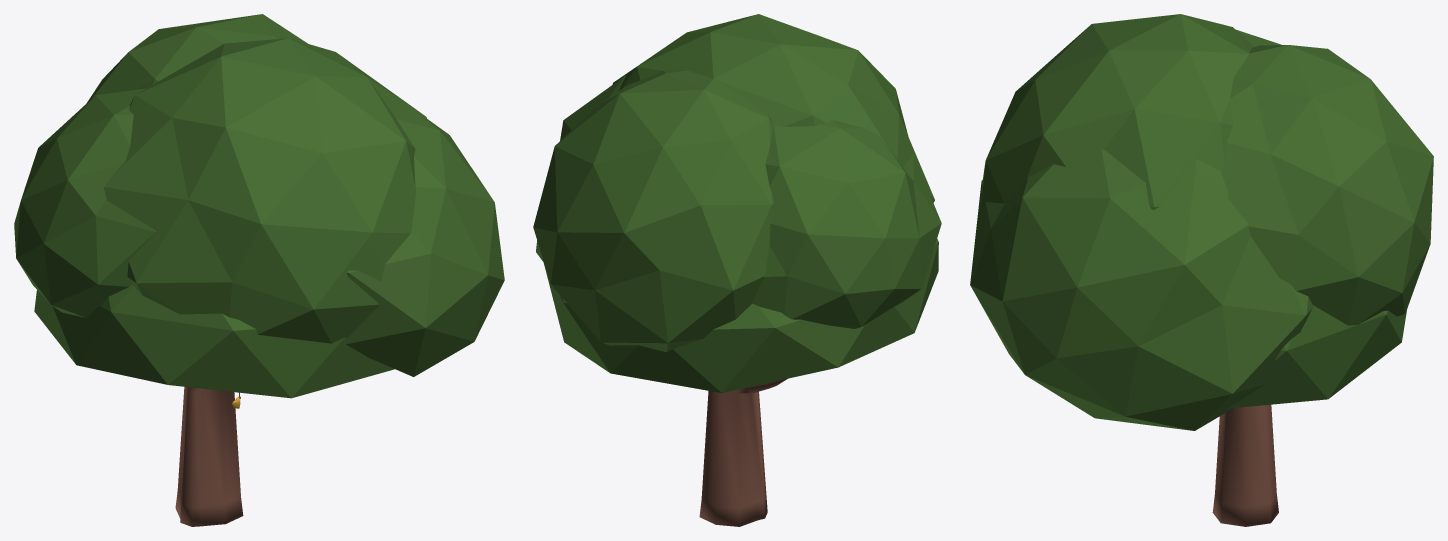
File: Arvore_grande.gltf
3 renders of one model, left to right at view 1: azimuth 30°, elevation 25°; view 2: azimuth 150°, elevation 25°; view 3: azimuth 270°, elevation 25°, orthographic. The views are drawn at different scales.
Visible parts, largest first — view 1: Esfera icosaédrica.005, Esfera icosaédrica.008, Esfera icosaédrica.009, Esfera icosaédrica.006, Arvore, Esfera icosaédrica.007; view 2: Esfera icosaédrica.007, Esfera icosaédrica.006, Esfera icosaédrica.005, Esfera icosaédrica.009, Arvore, Esfera icosaédrica.008; view 3: Esfera icosaédrica.008, Esfera icosaédrica.007, Esfera icosaédrica.005, Esfera icosaédrica.009, Arvore.
Boxes of the visible parts, x1=… form: Esfera icosaédrica.005: x1=104, y1=38, x2=427, y2=343; Esfera icosaédrica.008: x1=346, y1=109, x2=504, y2=376; Esfera icosaédrica.009: x1=34, y1=284, x2=394, y2=398; Esfera icosaédrica.006: x1=14, y1=88, x2=155, y2=317; Arvore: x1=175, y1=386, x2=243, y2=526; Esfera icosaédrica.007: x1=86, y1=14, x2=307, y2=103; Esfera icosaédrica.007: x1=533, y1=70, x2=774, y2=352; Esfera icosaédrica.006: x1=752, y1=120, x2=941, y2=328; Esfera icosaédrica.005: x1=612, y1=14, x2=934, y2=202; Esfera icosaédrica.009: x1=542, y1=238, x2=938, y2=392; Arvore: x1=699, y1=378, x2=787, y2=526; Esfera icosaédrica.008: x1=536, y1=76, x2=625, y2=261; Esfera icosaédrica.008: x1=970, y1=149, x2=1312, y2=430; Esfera icosaédrica.007: x1=1220, y1=45, x2=1433, y2=325; Esfera icosaédrica.005: x1=980, y1=14, x2=1253, y2=212; Esfera icosaédrica.009: x1=1228, y1=305, x2=1406, y2=408; Arvore: x1=1212, y1=404, x2=1278, y2=526.
Size of what is drawn, in the model's own units: 2.06 by 2.36 by 2.03.
